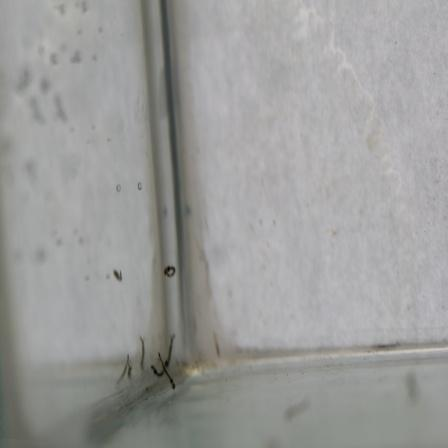Jentik-Nyamuk: (149, 336, 179, 393), (157, 261, 180, 285)
